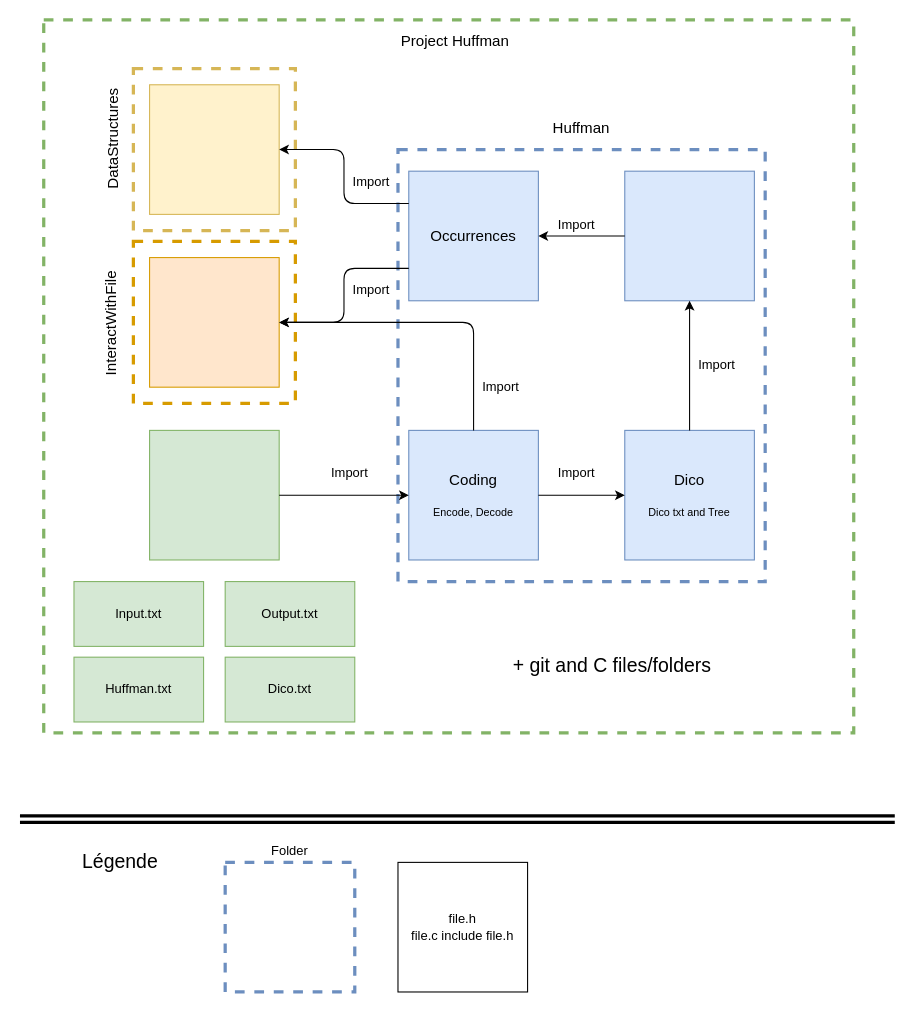
The diagram is 915 pixels wide and 1012 high, and some of its shapes have lost their labels. Here are the shapes that lost their labels. From the top down, the centre of each, then its label:
At point (213, 149): "DataStructures Element, Node, etc... add , print and free".
At point (689, 235): "HuffmanTree".
At point (213, 321): "InteractWithFile load, print, count".
At point (213, 494): "Main.c".
